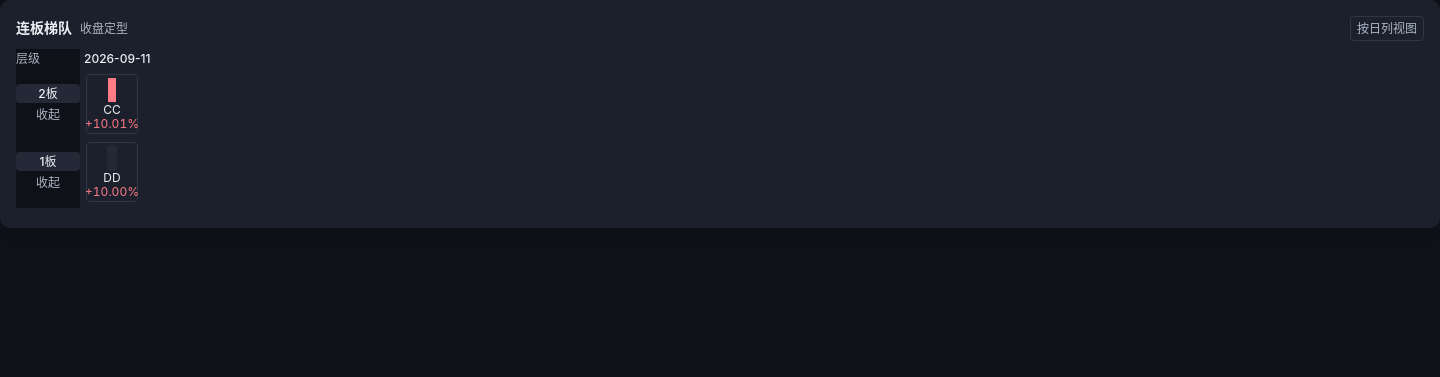
LadderBoard › 首板字样/炸板组/断板组/昨板数 tooltip
What coordinates should you click on to do the following:
click the button "按日列视图"
I would click on:
 (1387, 29)
Its box is left=1350, top=16, right=1424, bottom=41.
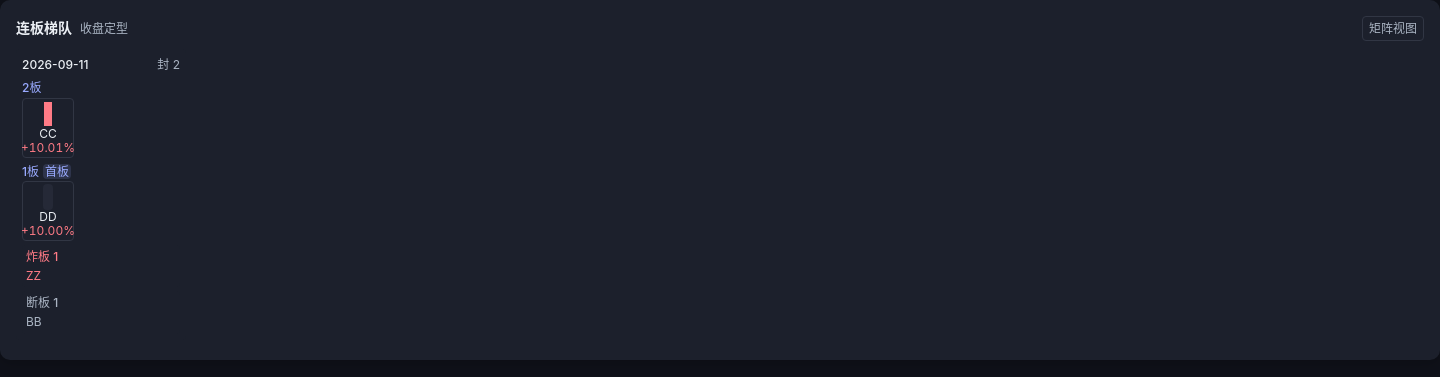
Expected: the text "首板" is shown, left=43, top=164, right=71, bottom=179
Expected: the text "炸板 1" is shown, left=26, top=249, right=58, bottom=264
Expected: the text "断板 1" is shown, left=26, top=295, right=58, bottom=310
